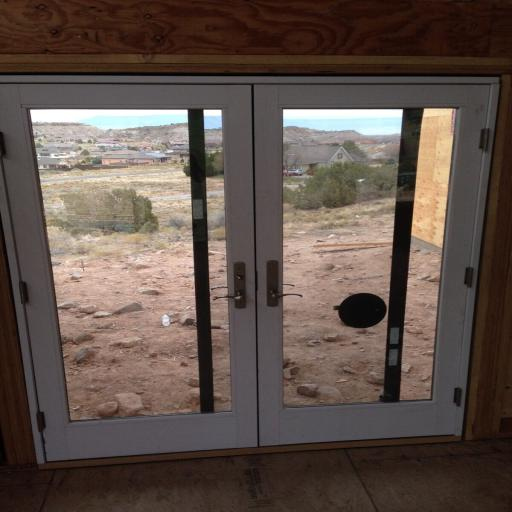Door: (0, 82, 259, 462), (254, 84, 490, 446)
